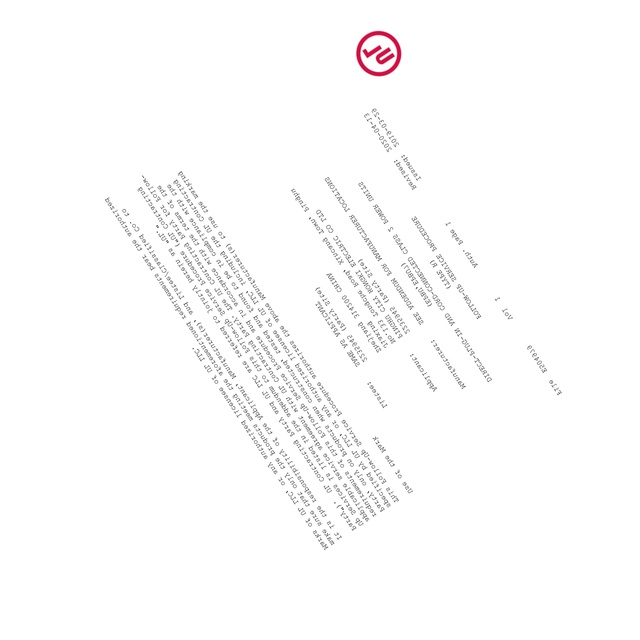ul: (356, 31, 404, 76)
